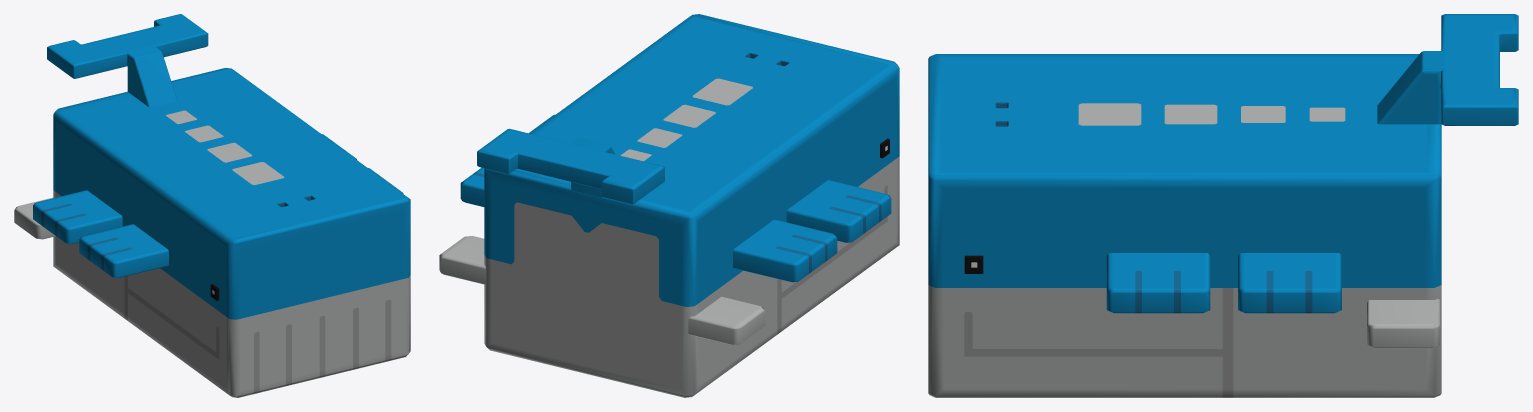
3 renders of one model, left to right at view 1: azimuth 30°, elevation 25°; view 2: azimuth 150°, elevation 25°; view 3: azimuth 270°, elevation 25°, orthographic. The views are drawn at different scales.
Visible parts, largest first — view 1: model; view 2: model; view 3: model.
Boxes of the visible parts, x1=… form: model: x1=14, y1=14, x2=410, y2=397; model: x1=439, y1=14, x2=899, y2=397; model: x1=928, y1=14, x2=1518, y2=397.
Bounding box in the file's own units: 3.56 × 2.29 × 4.42.
